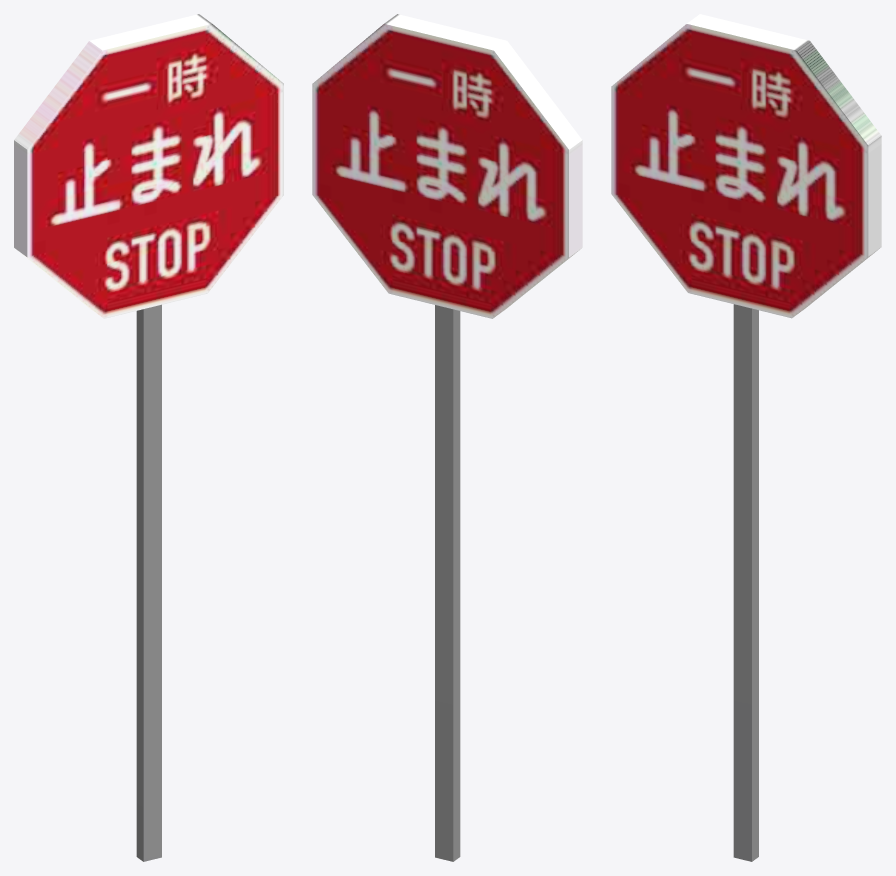
The model's file is 9fac0e67-f48e-4fb6-94a5-6bb95db0f1c3.glb.
3 renders of one model, left to right at view 1: azimuth 30°, elevation 25°; view 2: azimuth 150°, elevation 25°; view 3: azimuth 330°, elevation 25°, orthographic.
Parts seen in each view (by area): view 1: AsianStopSign.001; view 2: AsianStopSign.001; view 3: AsianStopSign.001.
Part boxes in pixels (x1,y1,x2,y2): AsianStopSign.001: (14, 14, 283, 861); AsianStopSign.001: (312, 14, 582, 861); AsianStopSign.001: (611, 14, 881, 861).
Size of what is drawn, in the model's own units: 0.6735 by 2.07 by 0.0608.
Materials: 2 (2 with a texture image).
